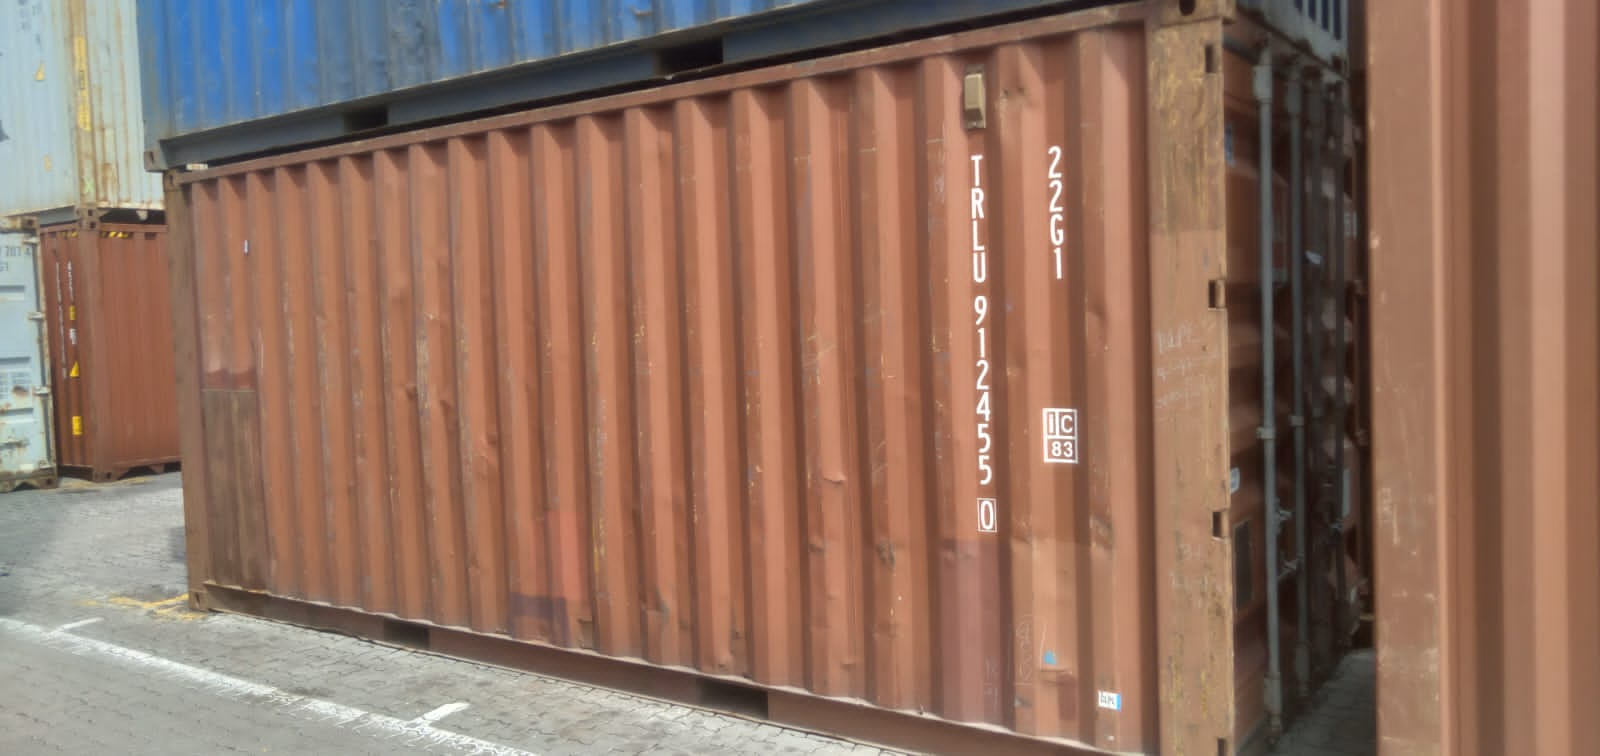dented: (830, 499, 1130, 588), (367, 356, 528, 517), (983, 56, 1098, 124)
